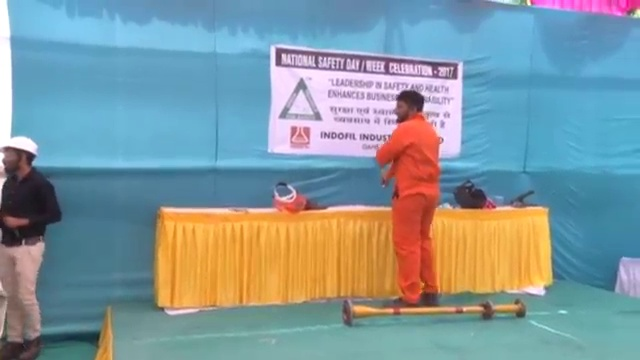helmet: (1, 136, 38, 159)
helmet_off: (393, 90, 425, 123)
helmet_on: (1, 136, 38, 177)
person: (374, 90, 444, 307), (1, 134, 61, 358)
